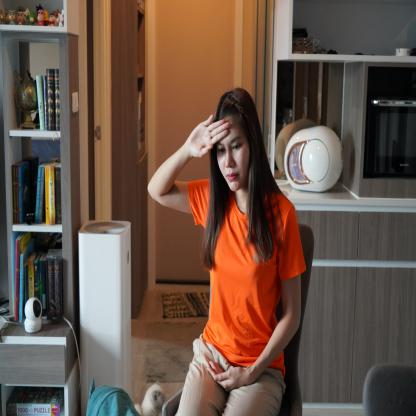Sick: (179, 112, 235, 160)
